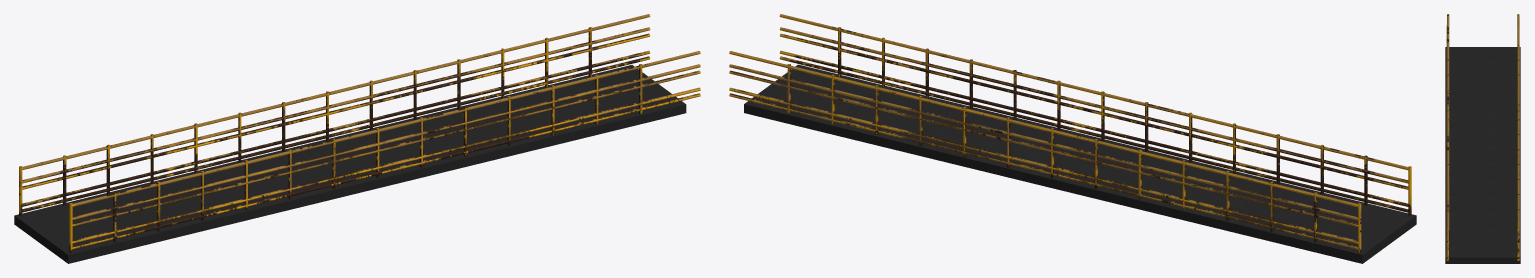
Rendered from Hanger_Catwalk.fbx.
3 views of the same model, side by side, from view 1: azimuth 30°, elevation 25°; view 2: azimuth 150°, elevation 25°; view 3: azimuth 270°, elevation 25° (orthographic). The views are drawn at different scales.
Visible parts, largest first — view 1: Box013; view 2: Box013; view 3: Box013.
Part boxes in pixels (<box>): Box013: <box>14,14,700,263</box>; Box013: <box>729,14,1416,263</box>; Box013: <box>1445,14,1520,263</box>.
Size of the model in its own units: 3583 by 312 by 529.
1 material, 1 textured.
